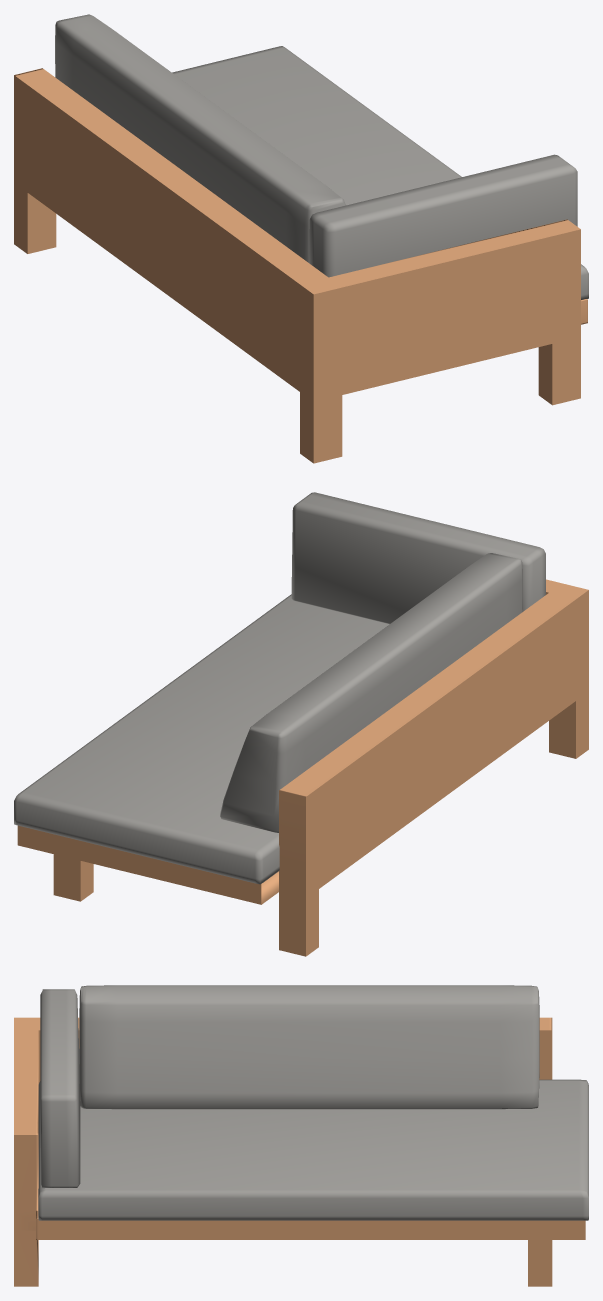
File: MSH_EstanciaRoof_Sillon.fbx
3 renders of one model, top to bottom at view 1: azimuth 30°, elevation 25°; view 2: azimuth 150°, elevation 25°; view 3: azimuth 270°, elevation 25°, orthographic. The views are drawn at different scales.
Visible parts, largest first — view 1: MSH_EstanciaRoof_Sillon; view 2: MSH_EstanciaRoof_Sillon; view 3: MSH_EstanciaRoof_Sillon.
Boxes of the visible parts, x1=… form: MSH_EstanciaRoof_Sillon: x1=14, y1=14, x2=588, y2=463; MSH_EstanciaRoof_Sillon: x1=14, y1=492, x2=588, y2=956; MSH_EstanciaRoof_Sillon: x1=14, y1=985, x2=588, y2=1286.
Size of the model in its own units: 120 by 87.8 by 229.
